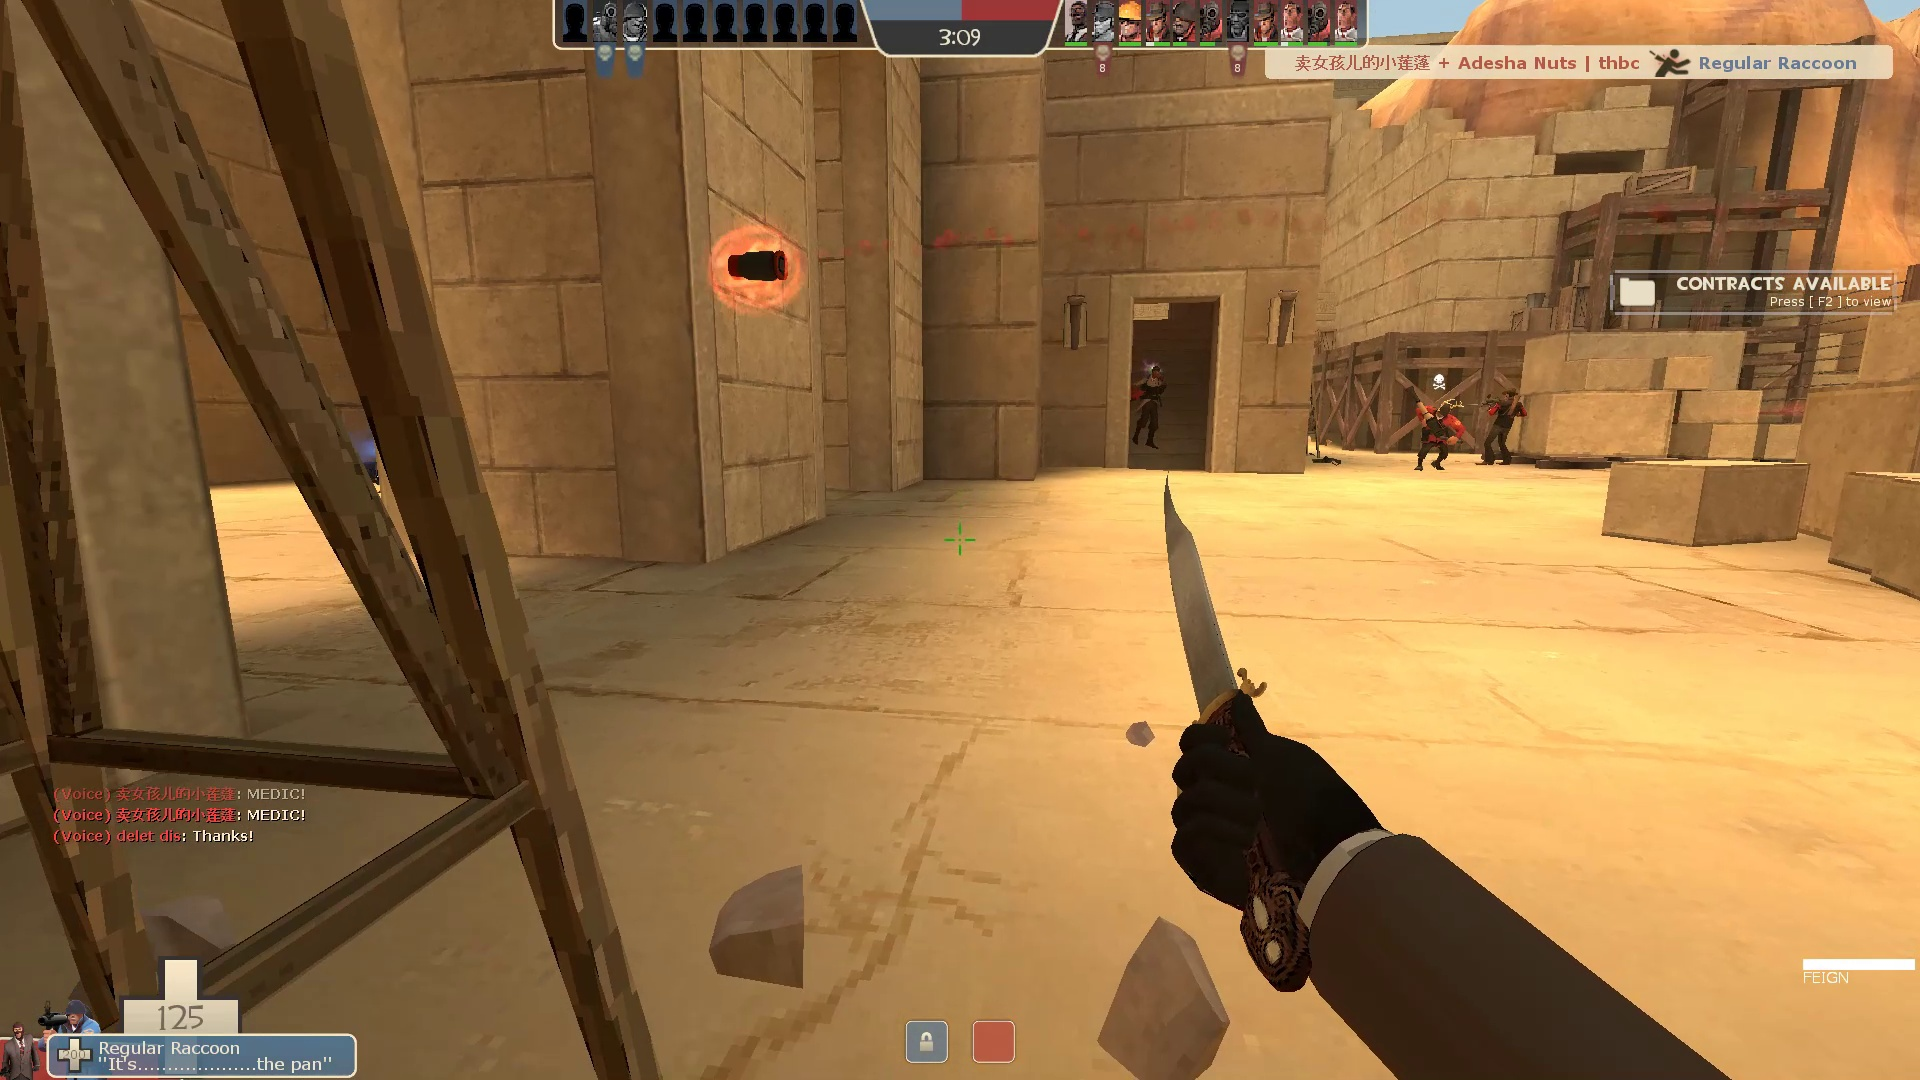red_medic: (1124, 363, 1174, 454)
red_sniper: (1461, 386, 1530, 473)
red_soldier: (1404, 394, 1468, 475)
